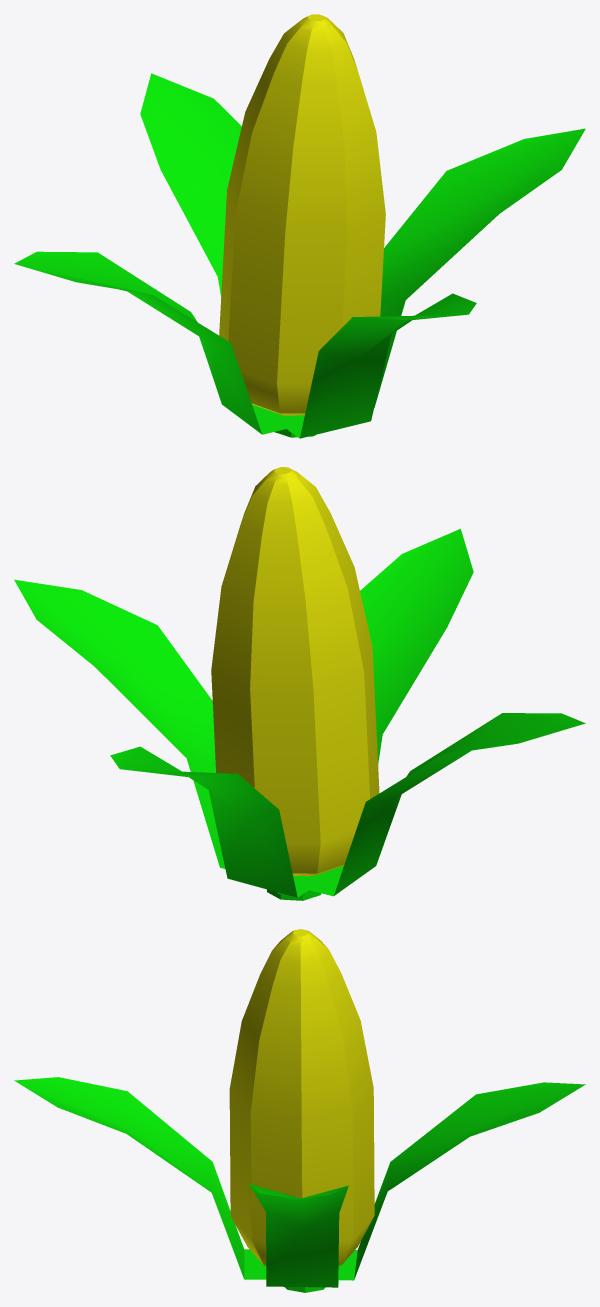
File: Corn.fbx
3 views of the same model, one above another, from view 1: azimuth 30°, elevation 25°; view 2: azimuth 150°, elevation 25°; view 3: azimuth 270°, elevation 25° (orthographic). The views are drawn at different scales.
Visible parts, largest first — view 1: pCylinder6; view 2: pCylinder6; view 3: pCylinder6.
Boxes of the visible parts, <box> form: pCylinder6: <box>14,14,585,438</box>; pCylinder6: <box>14,467,585,900</box>; pCylinder6: <box>14,929,585,1292</box>.
Size of the model in its own units: 4.5 by 3.08 by 4.49.
